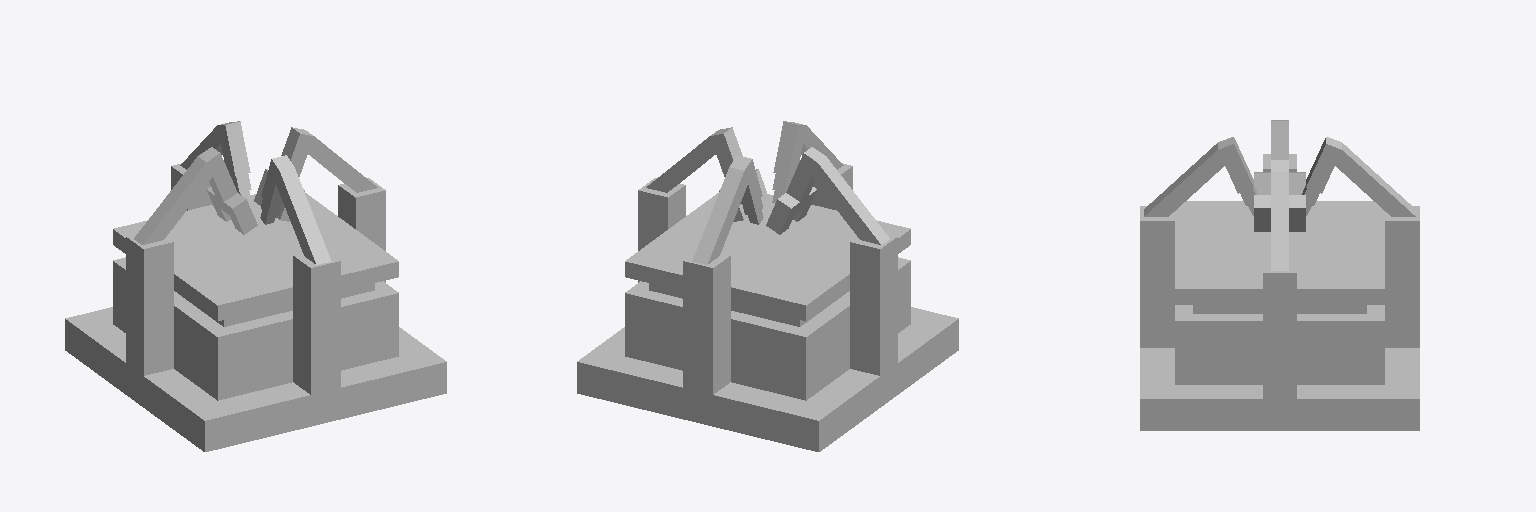
File: upgradeblock.obj
3 views of the same model, side by side, from view 1: azimuth 30°, elevation 25°; view 2: azimuth 150°, elevation 25°; view 3: azimuth 270°, elevation 25° (orthographic).
Parts seen in each view (by area): view 1: cube, cube.002, cube.000, cube.006, cube.003, cube.007, cube.018, cube.004, cube.012, cube.019, cube.008, cube.001 (+4 smaller); view 2: cube, cube.002, cube.000, cube.005, cube.003, cube.007, cube.017, cube.004, cube.012, cube.020, cube.008, cube.001 (+3 smaller); view 3: cube.002, cube, cube.000, cube.006, cube.005, cube.004, cube.018, cube.017, cube.012, cube.001, cube.019, cube.020 (+3 smaller).
Part boxes in pixels (x1,y1,x2,y2): cube: (65,307,446,451); cube.002: (113,193,398,320); cube.000: (113,257,398,400); cube.006: (293,252,340,394); cube.003: (126,234,173,375); cube.007: (134,156,216,244); cube.018: (273,167,331,264); cube.004: (338,178,385,282); cube.012: (304,136,377,192); cube.019: (217,121,250,175); cube.008: (198,147,237,201); cube.001: (174,283,374,326); cube: (577,307,958,451); cube.002: (625,193,910,320); cube.000: (625,257,910,400); cube.005: (683,252,730,394); cube.003: (850,234,897,375); cube.007: (809,156,889,244); cube.017: (692,167,750,264); cube.004: (638,178,685,282); cube.012: (646,136,719,192); cube.020: (773,121,806,175); cube.008: (786,147,825,201); cube.001: (649,283,849,326); cube.002: (1175,201,1384,304); cube: (1140,348,1419,430); cube.000: (1175,305,1384,384); cube.006: (1140,206,1174,347); cube.005: (1385,206,1419,347); cube.004: (1263,258,1296,398); cube.018: (1144,143,1228,216); cube.017: (1330,143,1415,216); cube.012: (1271,172,1288,270); cube.001: (1193,305,1366,313); cube.019: (1306,137,1341,193); cube.020: (1218,137,1253,193).
Size of the model in its own units: 1 by 0.9141 by 1.